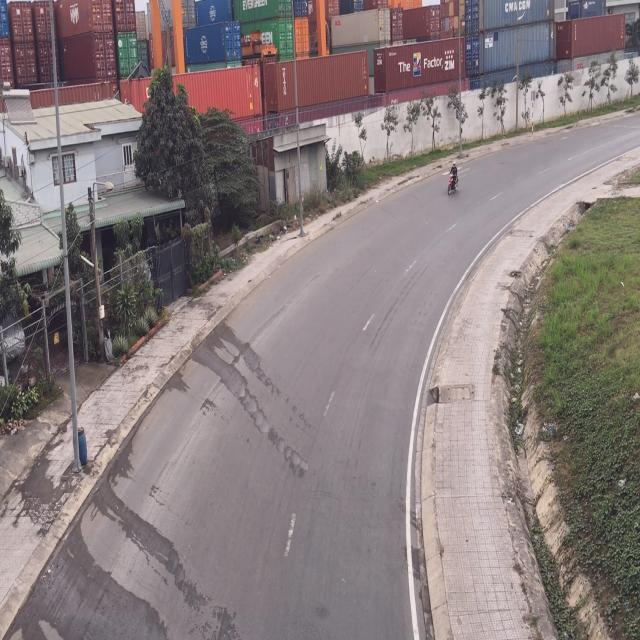motorbike: (446, 160, 460, 197)
